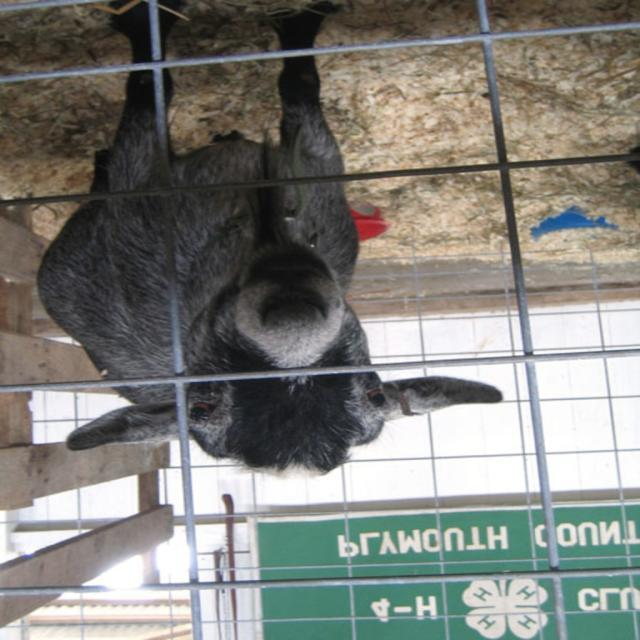Goat: (34, 1, 503, 480)
